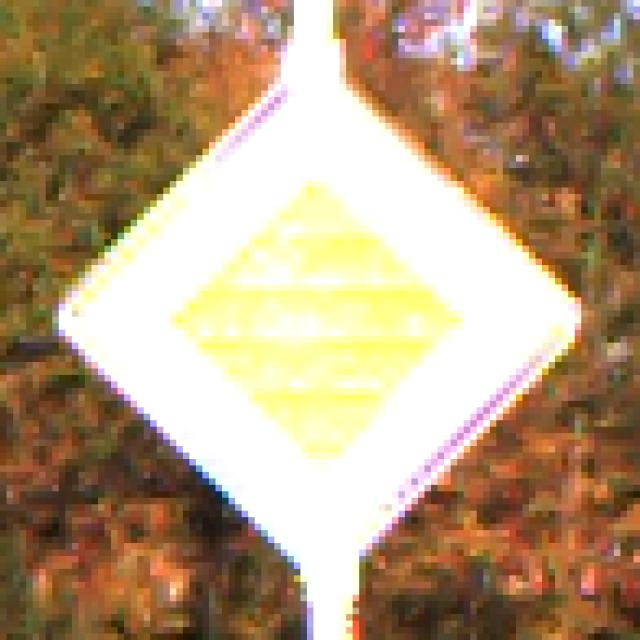Main Road: (53, 53, 582, 583)
